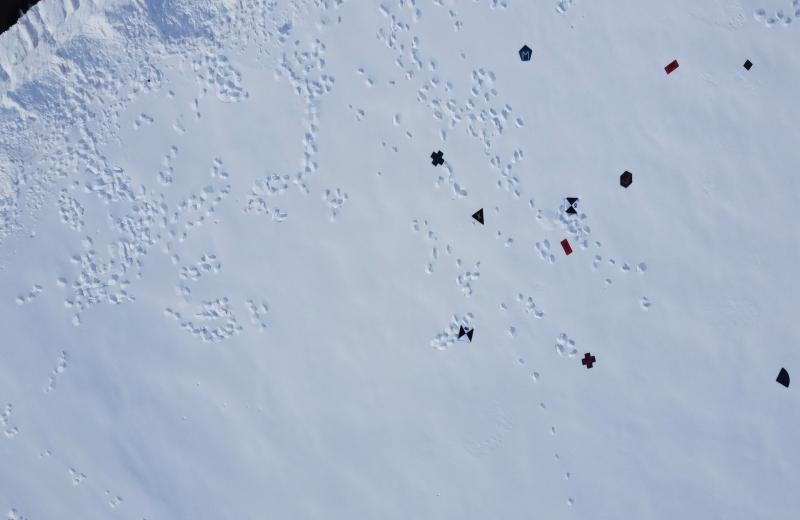Cross: (428, 148, 446, 167), (582, 351, 596, 369)
Hexagon: (618, 169, 634, 188)
Pentagon: (517, 43, 533, 63)
Quarter Circle: (774, 365, 792, 389)
Rectangle: (663, 61, 679, 76), (561, 238, 572, 256)
Square: (743, 59, 754, 71)
Triangle: (469, 208, 487, 227)
